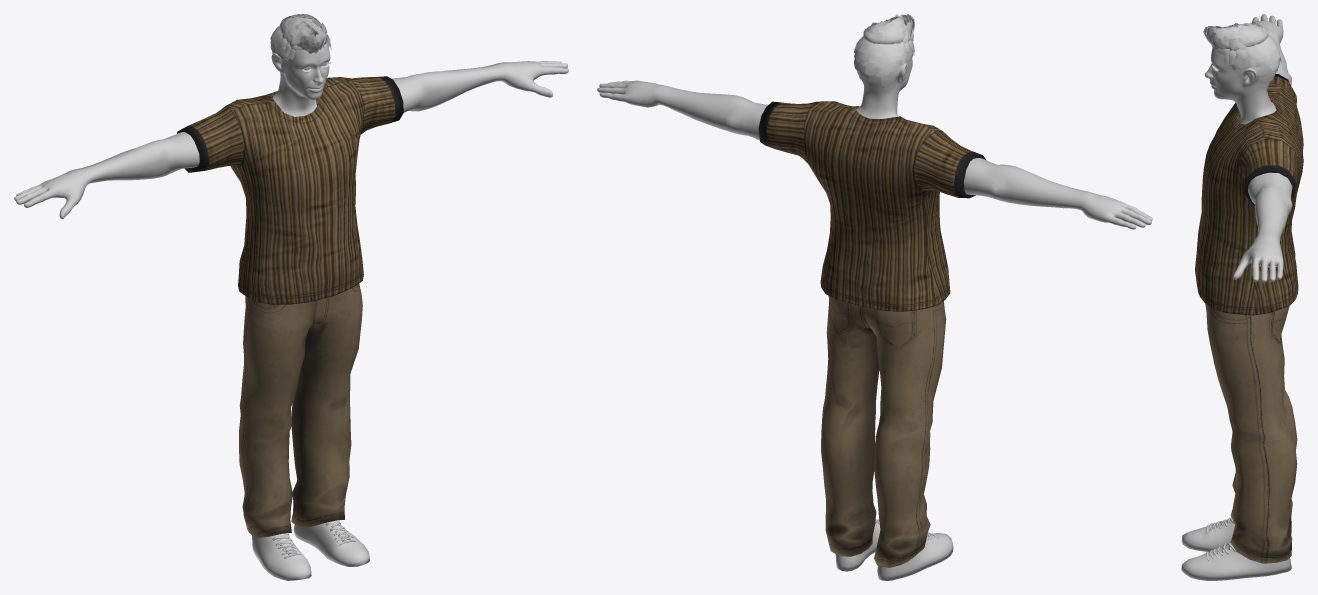
The model's file is boy2.obj.
3 renders of one model, left to right at view 1: azimuth 30°, elevation 25°; view 2: azimuth 150°, elevation 25°; view 3: azimuth 270°, elevation 25°, orthographic.
Parts seen in each view (by area): view 1: Tops, Bottoms, Body, Shoes, Hair; view 2: Tops, Bottoms, Body, Hair, Shoes; view 3: Bottoms, Tops, Body, Shoes, Hair.
Part boxes in pixels (x1,y1,x2,y2): Tops: [177, 76, 403, 304]; Bottoms: [239, 283, 362, 537]; Body: [14, 19, 568, 219]; Shoes: [252, 520, 369, 580]; Hair: [270, 14, 331, 66]; Tops: [758, 101, 985, 311]; Bottoms: [821, 296, 946, 567]; Body: [597, 44, 1152, 229]; Hair: [854, 14, 914, 93]; Shoes: [835, 519, 953, 580]; Bottoms: [1205, 303, 1297, 563]; Tops: [1195, 74, 1303, 315]; Body: [1205, 14, 1292, 282]; Shoes: [1181, 517, 1291, 580]; Hair: [1203, 23, 1281, 87].
Size of the model in its own units: 194 by 180 by 37.39.
